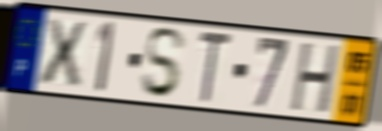1: (94, 19, 117, 96)
7: (254, 34, 292, 112)
H: (287, 40, 343, 117)
S: (139, 26, 189, 101)
T: (197, 28, 235, 105)
X: (37, 16, 89, 89)
